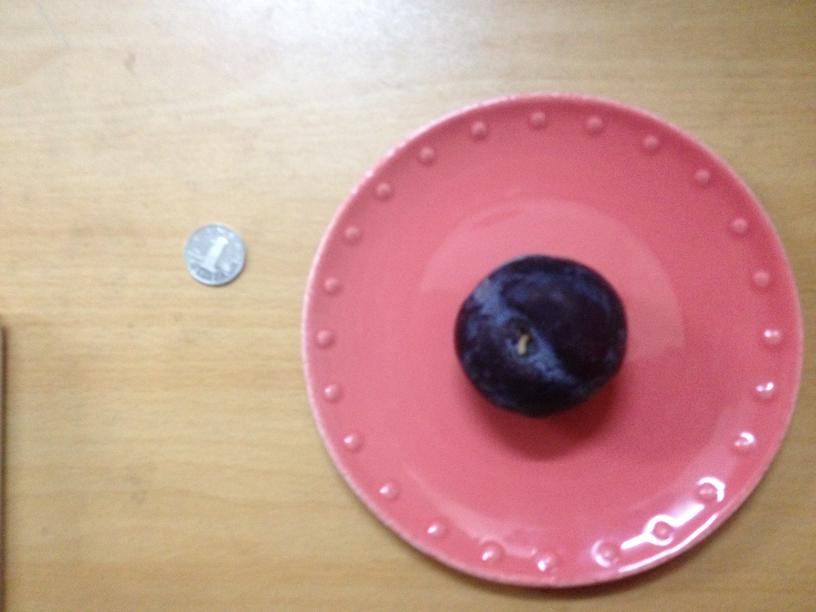coin: (178, 222, 246, 286)
plum: (447, 256, 623, 417)
